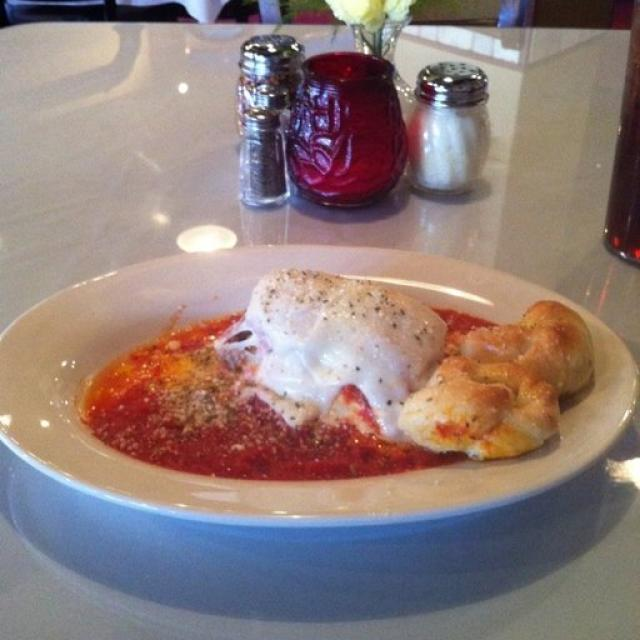Lasagna: (169, 246, 429, 474)
